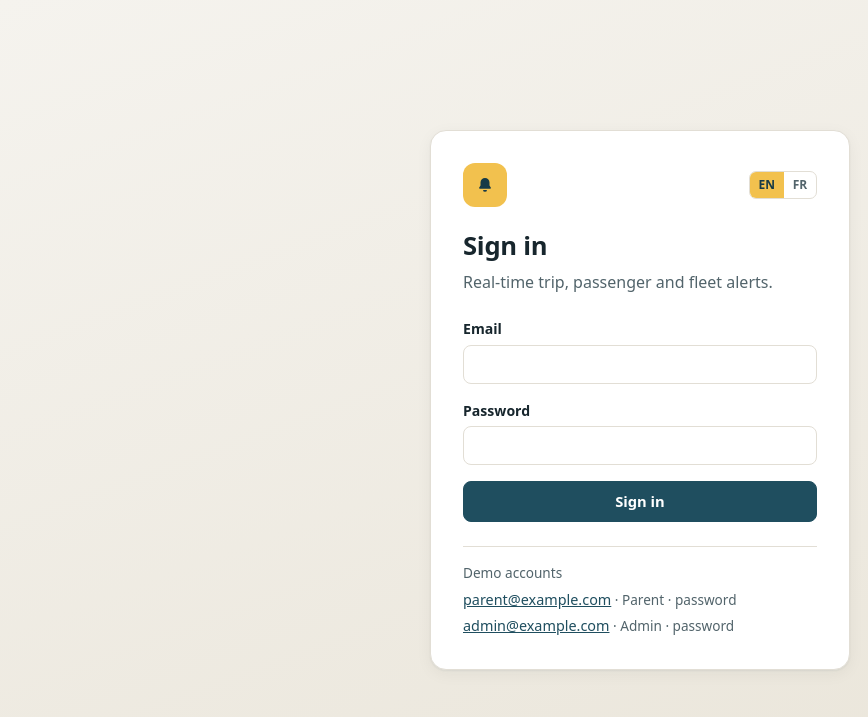
Test: LoginPage › shows the API validation error
In the field labelled "Email": (640, 364) [463,344,817,384], type "x@example.com"
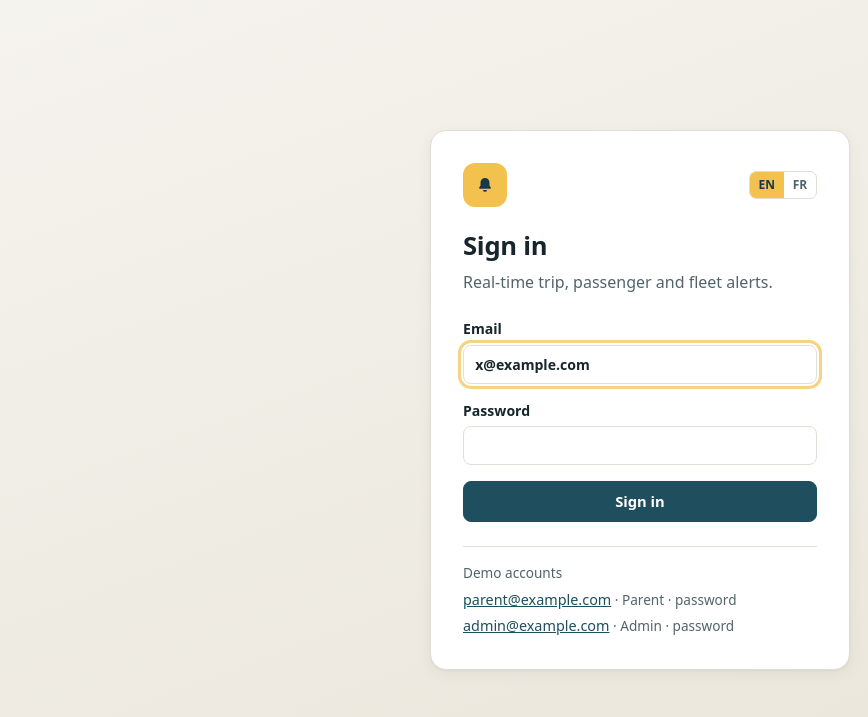
In the password field labelled "Password": (640, 446) [463,426,817,466], type "nope"
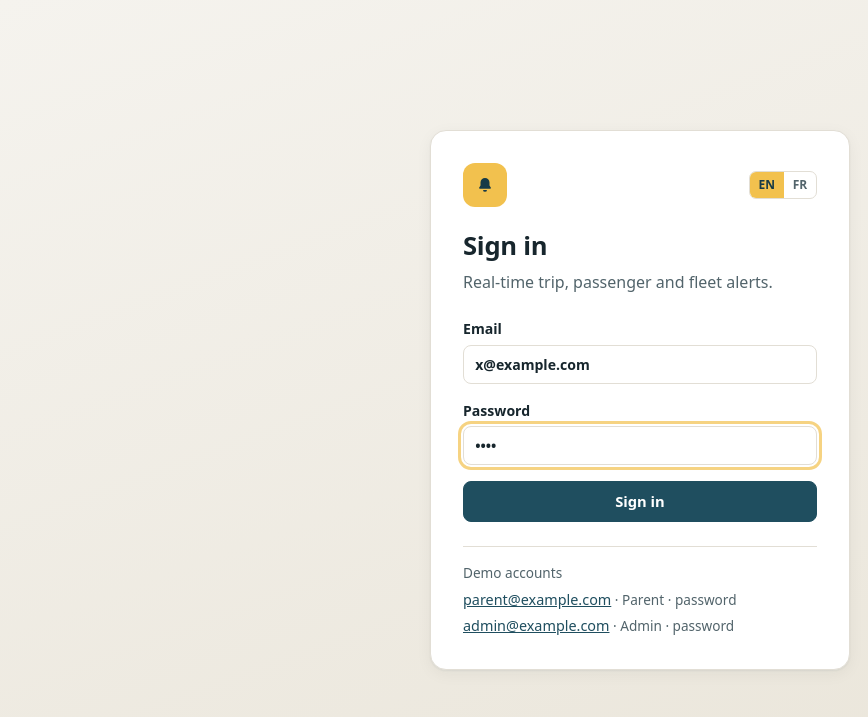
Click the button "Sign in": (640, 502) [463,482,817,522]
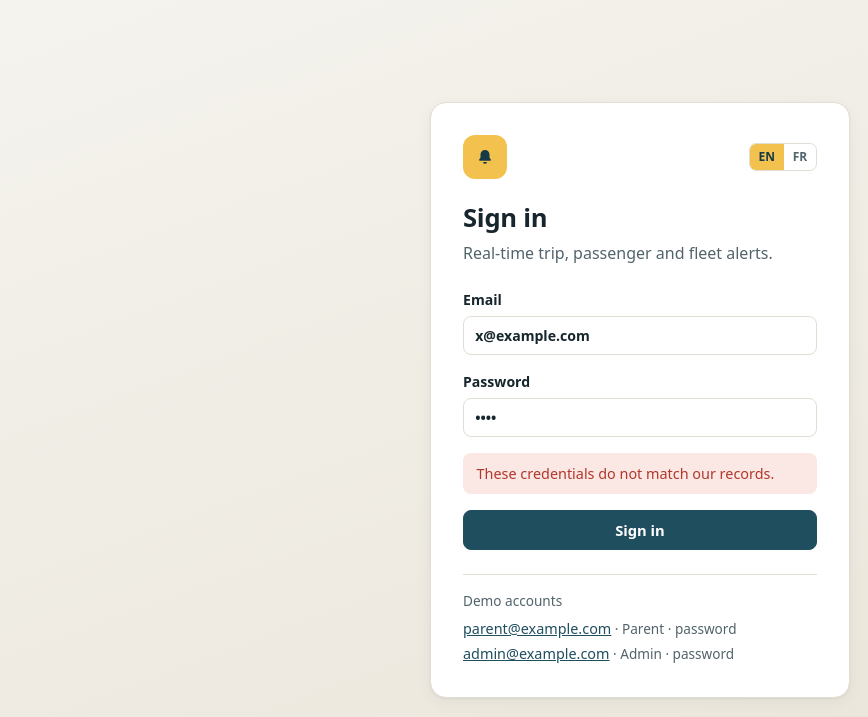
Expected: the message reads "These credentials do not match our records.", [477,464,774,483]
